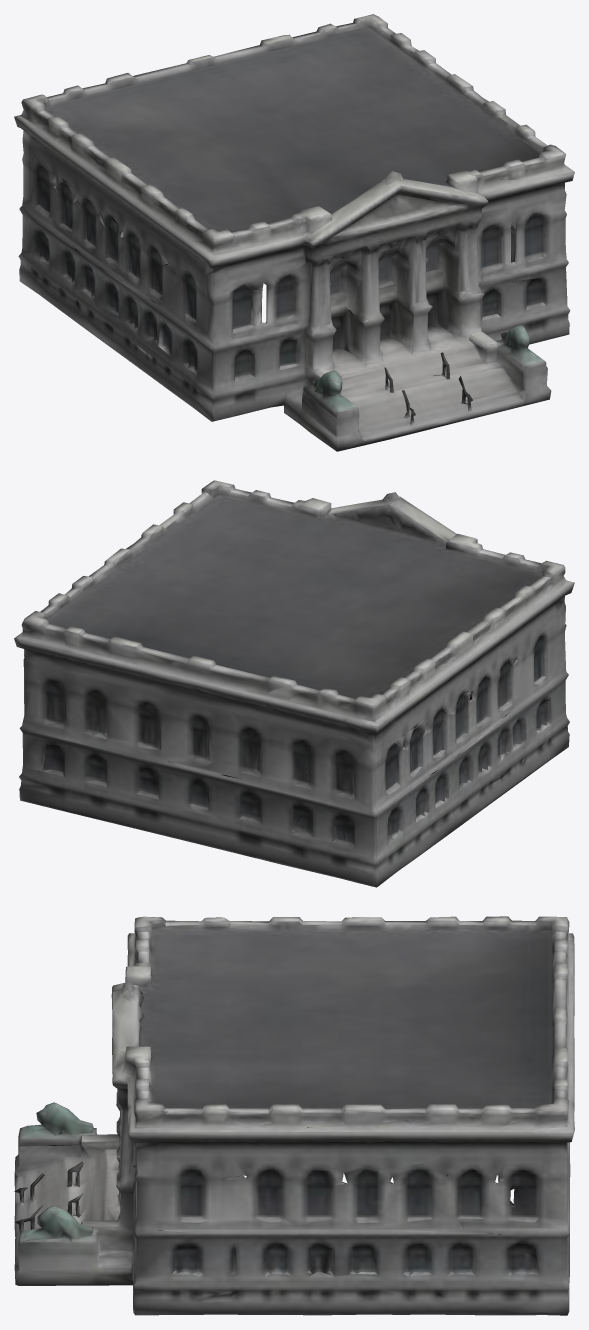
File: art_institute.glb
3 views of the same model, one above another, from view 1: azimuth 30°, elevation 25°; view 2: azimuth 150°, elevation 25°; view 3: azimuth 270°, elevation 25° (orthographic). The views are drawn at different scales.
Visible parts, largest first — view 1: art_institute; view 2: art_institute; view 3: art_institute.
Boxes of the visible parts, x1,y1,x2,y2 form: art_institute: (14, 14, 574, 451); art_institute: (14, 480, 574, 887); art_institute: (14, 916, 574, 1315).
Size of the model in its own units: 35.36 by 20.24 by 41.83.
1 material, 1 textured.
